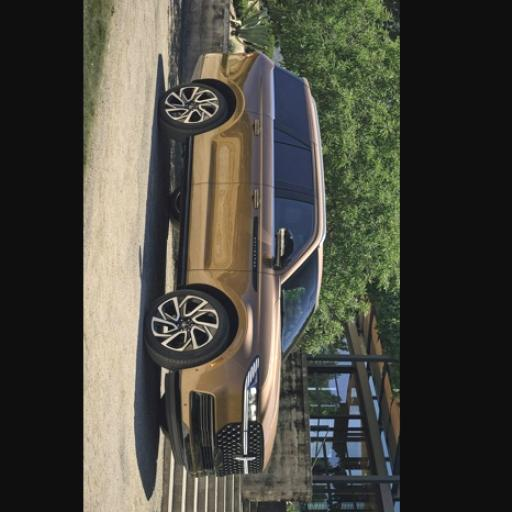suv: (143, 54, 325, 476)
